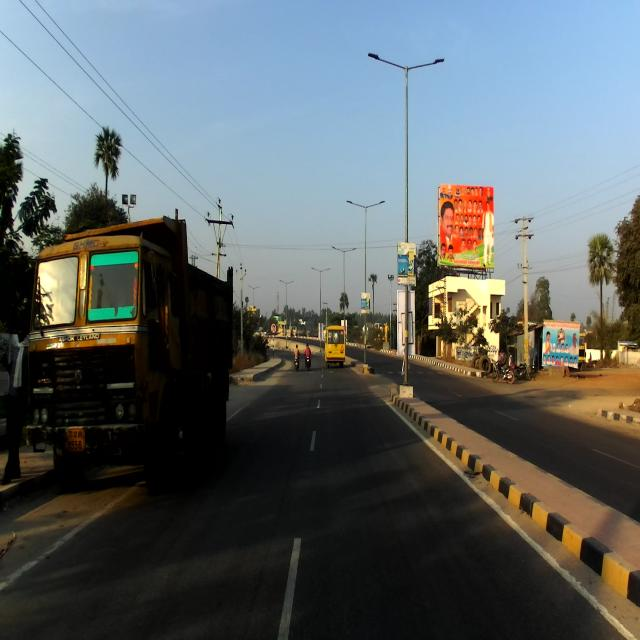truck ahead at: (32, 211, 242, 472)
